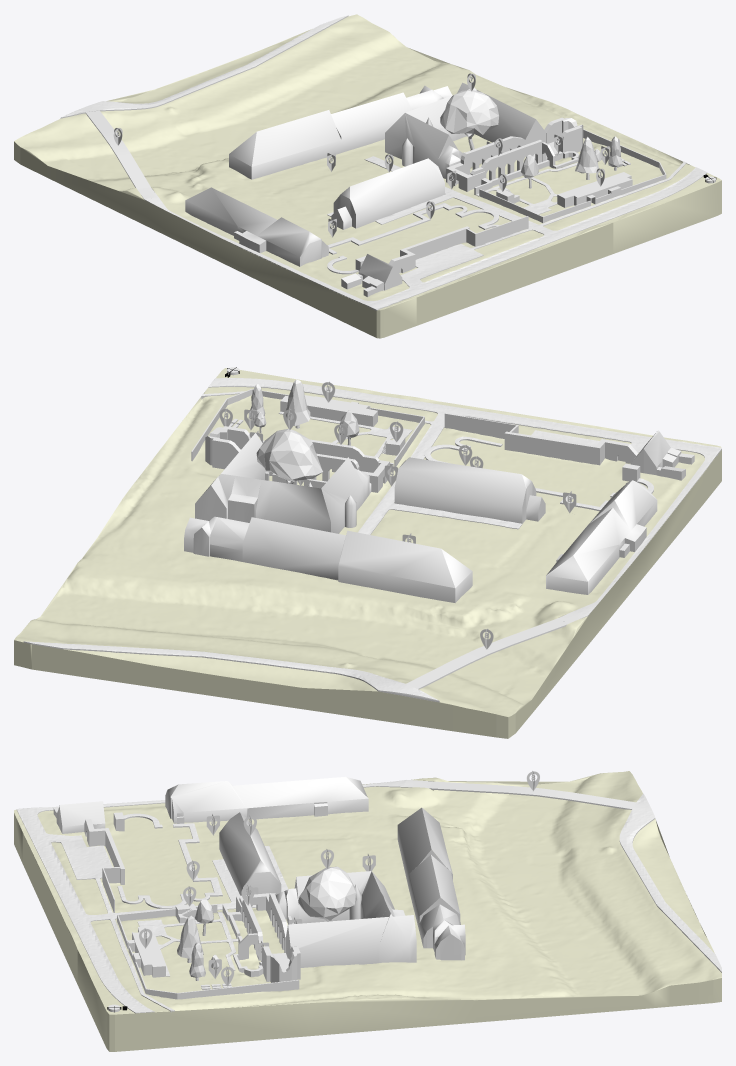
3 renders of one model, top to bottom at view 1: azimuth 30°, elevation 25°; view 2: azimuth 150°, elevation 25°; view 3: azimuth 270°, elevation 25°, orthographic. The views are drawn at different scales.
Visible parts, largest first — view 1: Punktkörper_12, Punktkörper_11, Gruppe_3, 3D_Fase, Punktkörper, 3D_Fase_3, Gruppe_5, Gruppe_4, Gruppe_13, Einfacher_Vollkörper, 3D_Fase_2, Gruppe_7 (+5 smaller); view 2: Punktkörper_12, Punktkörper_11, Gruppe_3, 3D_Fase, Gruppe_5, Punktkörper, Einfacher_Vollkörper, 3D_Fase_3, 3D_Fase_2, Gruppe_7, Gruppe_13, Punktkörper_3 (+2 smaller); view 3: Punktkörper_12, Punktkörper_11, Gruppe_3, Gruppe_5, Punktkörper, Einfacher_Vollkörper, Gruppe_4, Gruppe_13, Extrusionskörper_3, 3D_Fase, 3D_Fase_3, 3D_Fase_2 (+5 smaller).
Boxes of the visible parts, x1=… form: Punktkörper_12: x1=14, y1=14, x2=721, y2=338; Punktkörper_11: x1=185, y1=82, x2=632, y2=296; Gruppe_3: x1=327, y1=156, x2=707, y2=310; 3D_Fase: x1=388, y1=216, x2=528, y2=273; Punktkörper: x1=440, y1=90, x2=498, y2=134; 3D_Fase_3: x1=460, y1=136, x2=546, y2=180; Gruppe_5: x1=60, y1=15, x2=348, y2=118; Gruppe_4: x1=401, y1=228, x2=534, y2=288; Gruppe_13: x1=327, y1=203, x2=499, y2=274; Einfacher_Vollkörper: x1=85, y1=110, x2=150, y2=188; 3D_Fase_2: x1=544, y1=117, x2=583, y2=152; Gruppe_7: x1=144, y1=197, x2=378, y2=305; Punktkörper_12: x1=14, y1=368, x2=721, y2=738; Punktkörper_11: x1=184, y1=395, x2=694, y2=602; Gruppe_3: x1=201, y1=378, x2=721, y2=534; 3D_Fase: x1=444, y1=413, x2=638, y2=465; Gruppe_5: x1=23, y1=641, x2=439, y2=702; Punktkörper: x1=256, y1=428, x2=322, y2=480; Einfacher_Vollkörper: x1=406, y1=619, x2=568, y2=689; 3D_Fase_3: x1=269, y1=439, x2=379, y2=481; 3D_Fase_2: x1=205, y1=426, x2=250, y2=469; Gruppe_7: x1=575, y1=452, x2=716, y2=615; Gruppe_13: x1=424, y1=436, x2=653, y2=511; Punktkörper_3: x1=286, y1=379, x2=310, y2=425; Punktkörper_12: x1=14, y1=771, x2=721, y2=1051; Punktkörper_11: x1=53, y1=776, x2=465, y2=977; Gruppe_3: x1=16, y1=807, x2=287, y2=1013; Gruppe_5: x1=619, y1=793, x2=721, y2=972; Punktkörper: x1=298, y1=866, x2=356, y2=920; Einfacher_Vollkörper: x1=429, y1=781, x2=636, y2=809; Gruppe_4: x1=46, y1=833, x2=113, y2=913; Gruppe_13: x1=117, y1=813, x2=222, y2=908; Extrusionskörper_3: x1=135, y1=962, x2=299, y2=999; 3D_Fase: x1=84, y1=819, x2=124, y2=912; 3D_Fase_3: x1=239, y1=893, x2=287, y2=960; 3D_Fase_2: x1=262, y1=946, x2=300, y2=982.
Bounding box in the file's own units: 213 × 45.3 × 245.
17 materials, 14 textured.
